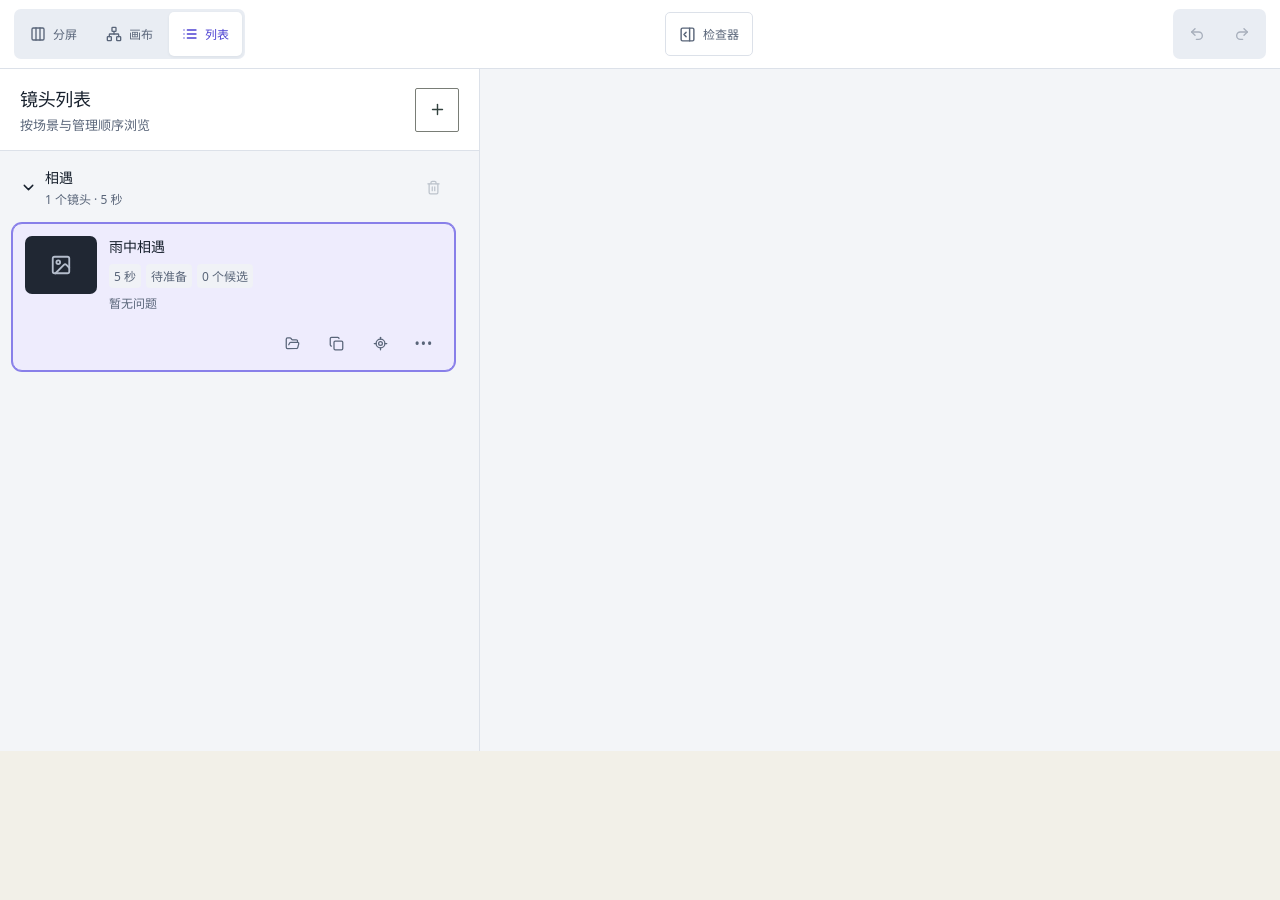
Test: ShotWorkspaceLayout › 窄屏首次进入默认列表，并允许打开画布
The width and height of the screenshot is (1280, 900).
Expected: the element named "按场景组织的镜头列表" is shown, [0,69,480,751]
Click the button with aria-label "画布视图" at point(130, 34), box [93,12,166,56]
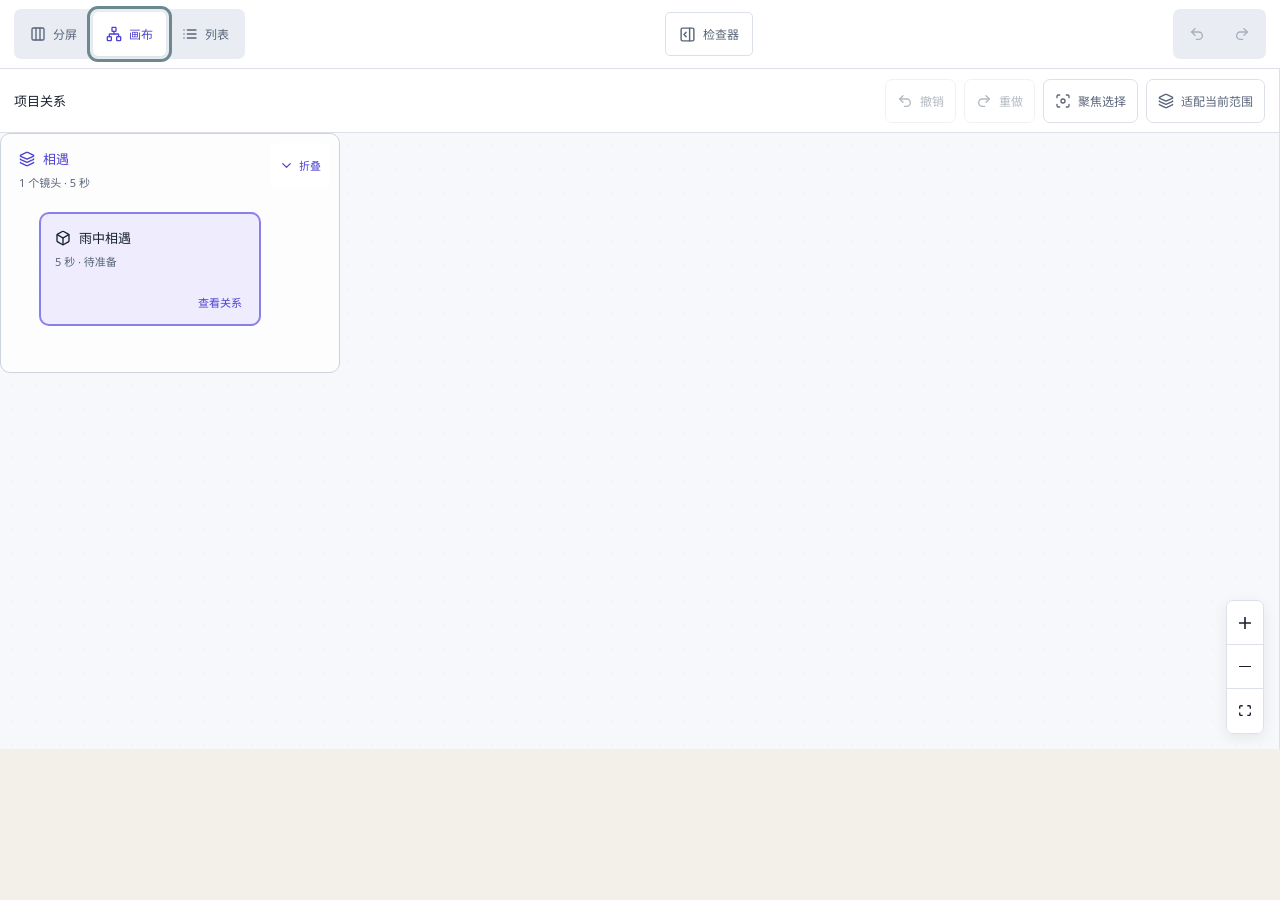
Expected: the element named "镜头关系图" is shown
Expected: the element "按场景组织的镜头列表" is gone
